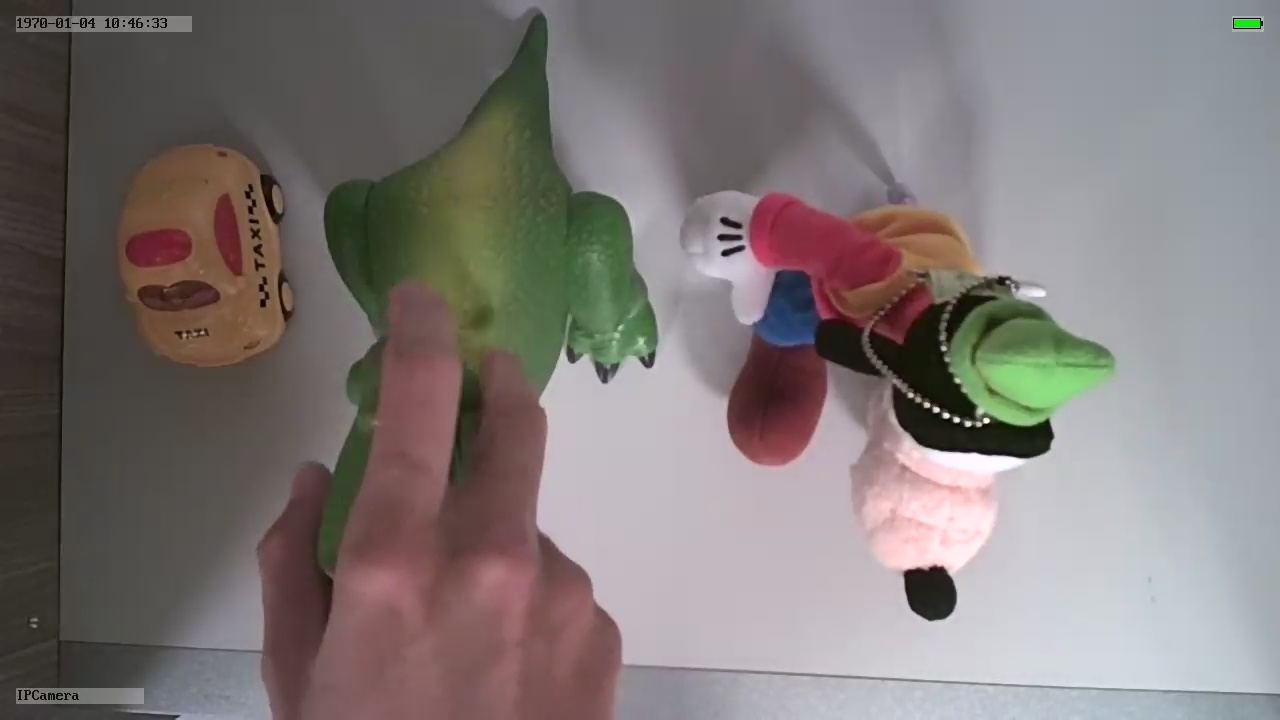car: (116, 137, 301, 371)
goofy: (676, 185, 1116, 623)
